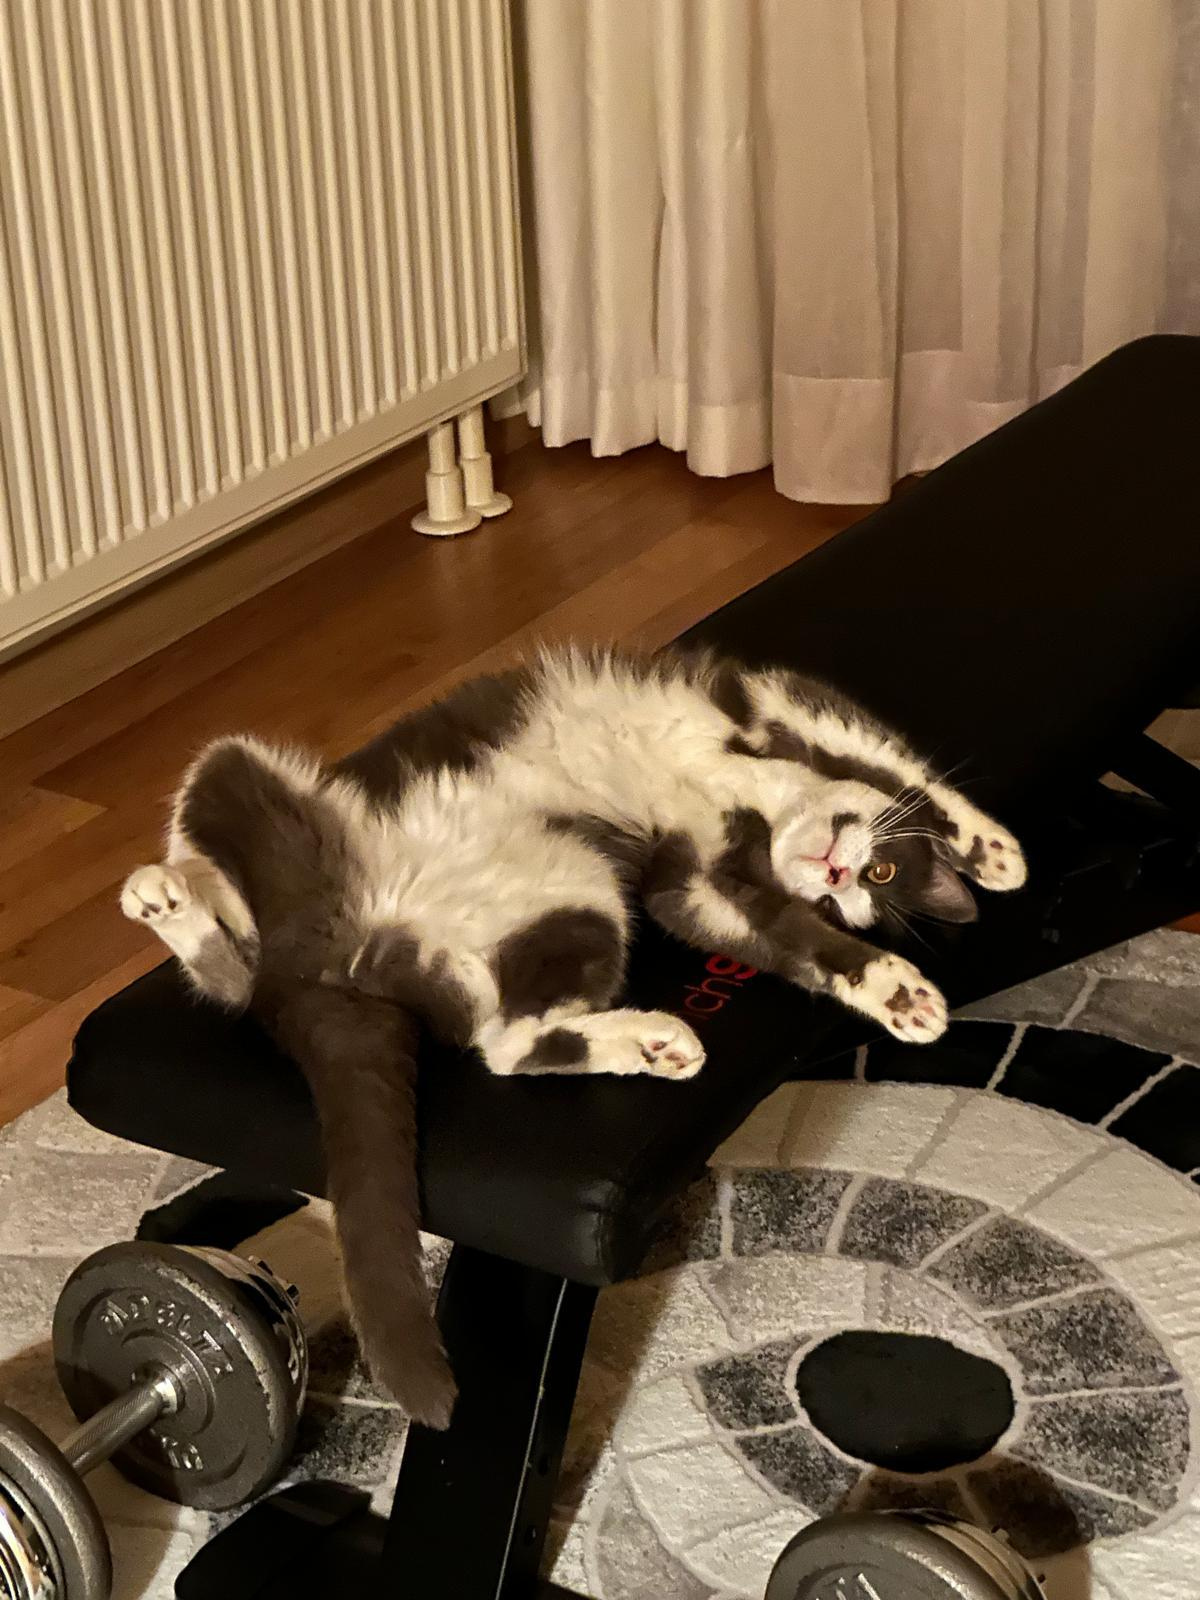kedo: (129, 663, 1029, 1434)
